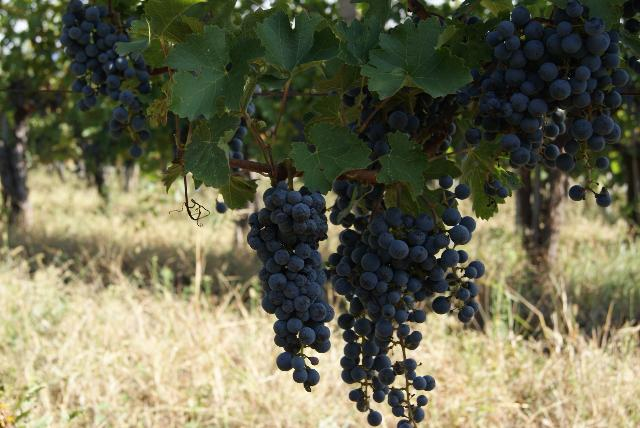grapes: (456, 0, 629, 172), (248, 181, 335, 391), (329, 208, 416, 418), (379, 209, 440, 426), (416, 176, 485, 319)
